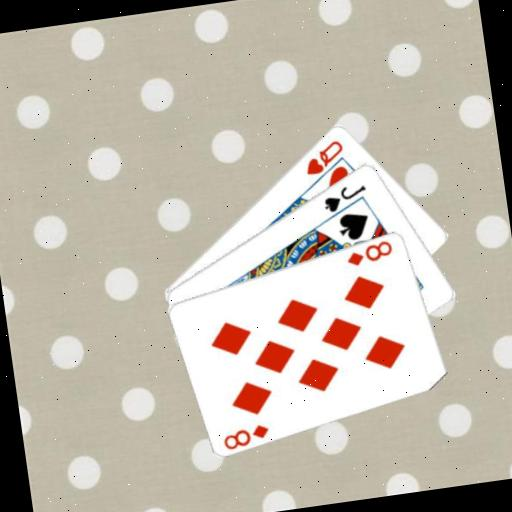8D: (342, 236, 396, 268), (220, 420, 273, 452)
JS: (319, 180, 370, 215)
QH: (299, 136, 349, 178)
